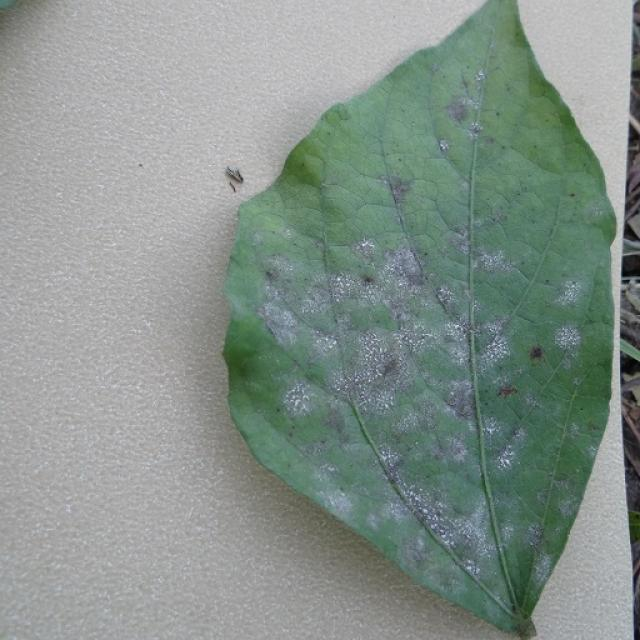Blackgram: (224, 0, 614, 630)
Powdery_Mildew: (277, 378, 330, 432), (394, 473, 443, 527), (351, 328, 398, 380), (443, 505, 490, 556), (263, 252, 312, 300), (546, 317, 591, 368), (394, 318, 439, 366), (260, 298, 305, 344), (383, 245, 425, 286), (392, 408, 434, 445), (328, 268, 367, 307), (479, 330, 513, 368), (443, 381, 477, 417), (475, 247, 516, 276), (441, 321, 473, 354), (402, 532, 431, 568), (375, 444, 405, 475), (385, 176, 413, 209), (325, 487, 355, 517), (310, 333, 340, 360), (552, 280, 582, 307), (531, 550, 553, 586), (435, 285, 461, 312), (494, 443, 519, 471), (298, 438, 331, 459), (557, 493, 580, 519), (446, 99, 470, 123), (353, 238, 378, 260), (449, 442, 469, 463), (441, 575, 461, 593), (462, 319, 481, 337), (457, 239, 474, 256), (527, 523, 543, 541), (510, 426, 527, 442), (468, 121, 483, 136), (491, 210, 507, 224), (454, 225, 469, 238), (438, 139, 450, 153), (458, 179, 470, 193), (591, 206, 604, 218), (316, 240, 327, 252), (476, 70, 485, 81), (485, 137, 495, 146), (431, 62, 439, 73), (418, 333, 426, 341)
